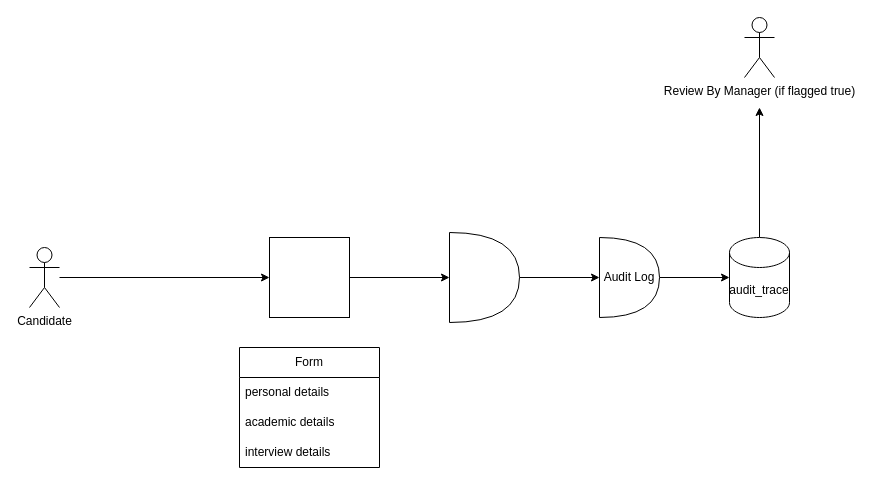
The diagram is 872 pixels wide and 485 high, and some of its shapes have lost their labels. Here are the shapes that lost their labels. From the top down, the box of each, then its label:
(268, 236, 350, 318): Server
(448, 232, 520, 322): Validation logic
